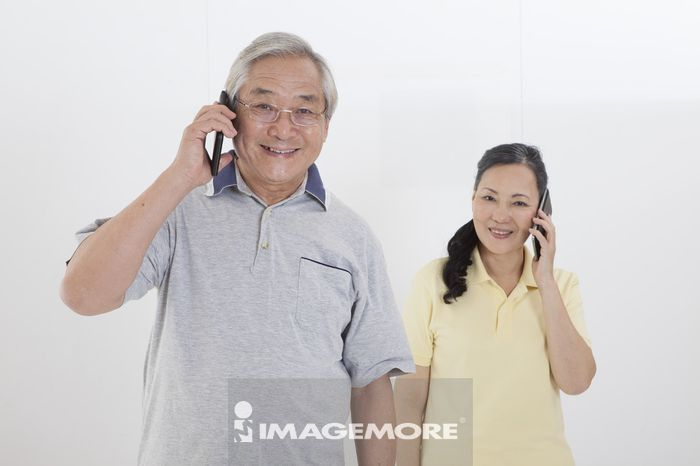phone: (210, 86, 227, 177), (533, 191, 552, 263)
talk: (170, 81, 324, 199), (477, 183, 557, 285)
